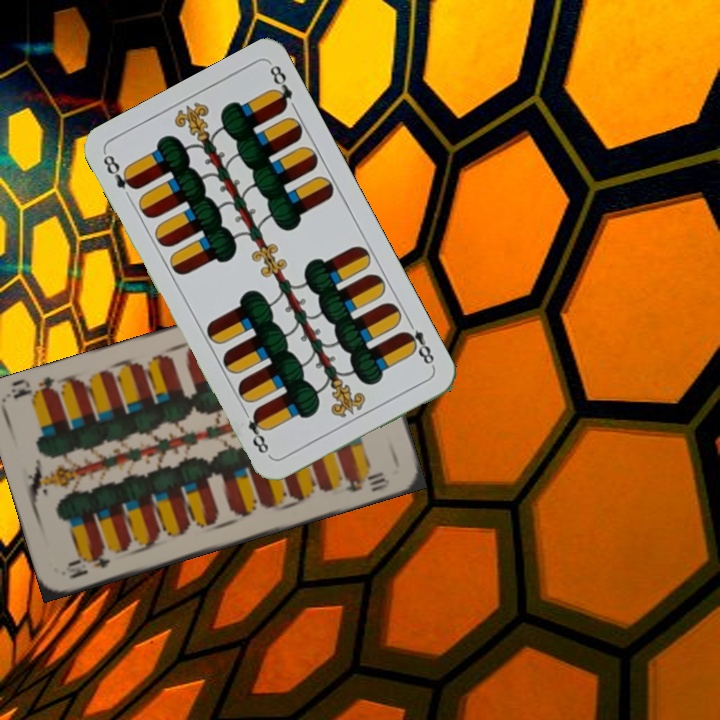E10: (64, 548, 113, 582)
E8: (398, 316, 437, 371), (99, 150, 140, 193)
